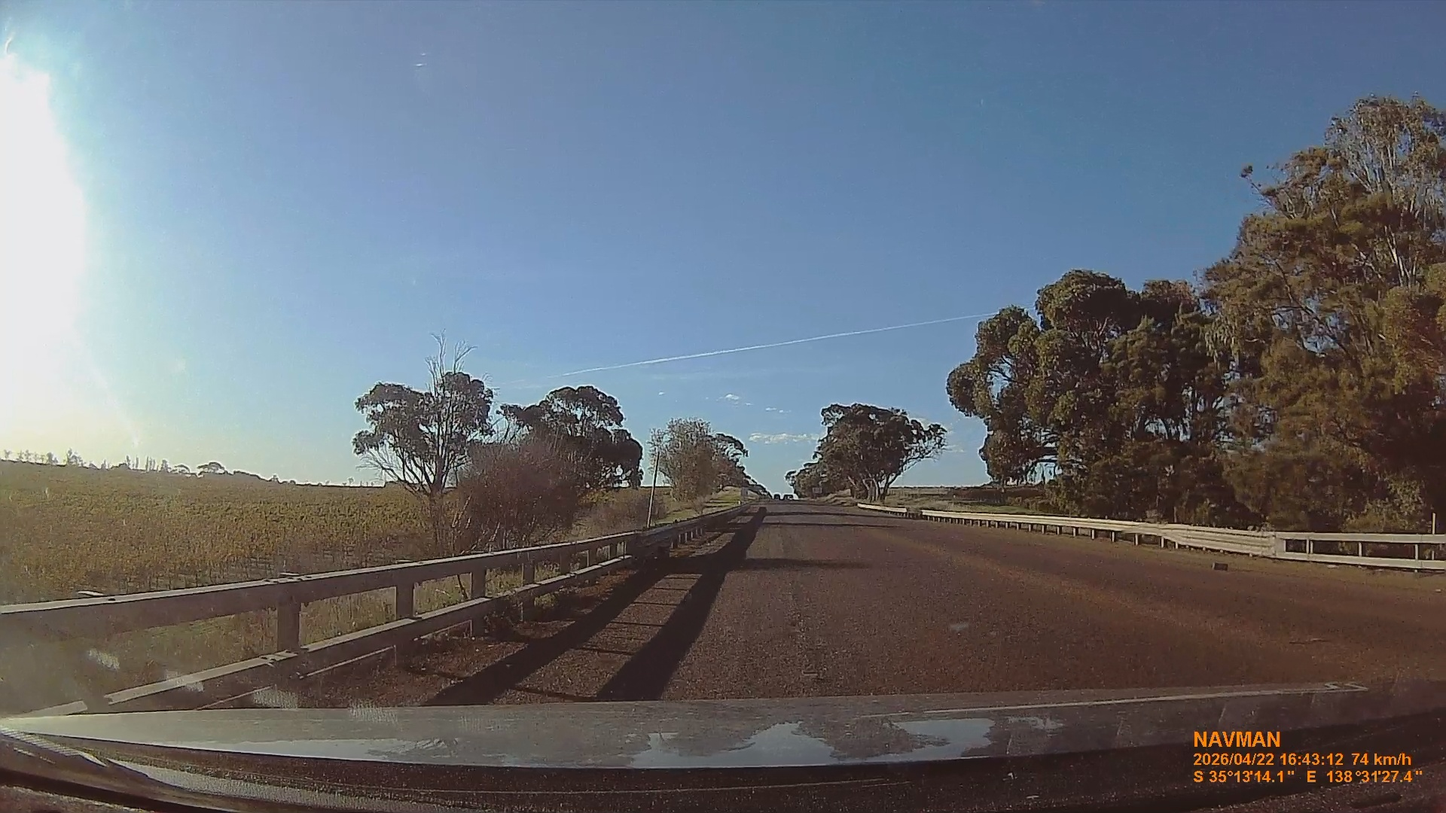road barriers: (2, 504, 747, 718), (854, 504, 1446, 573)
